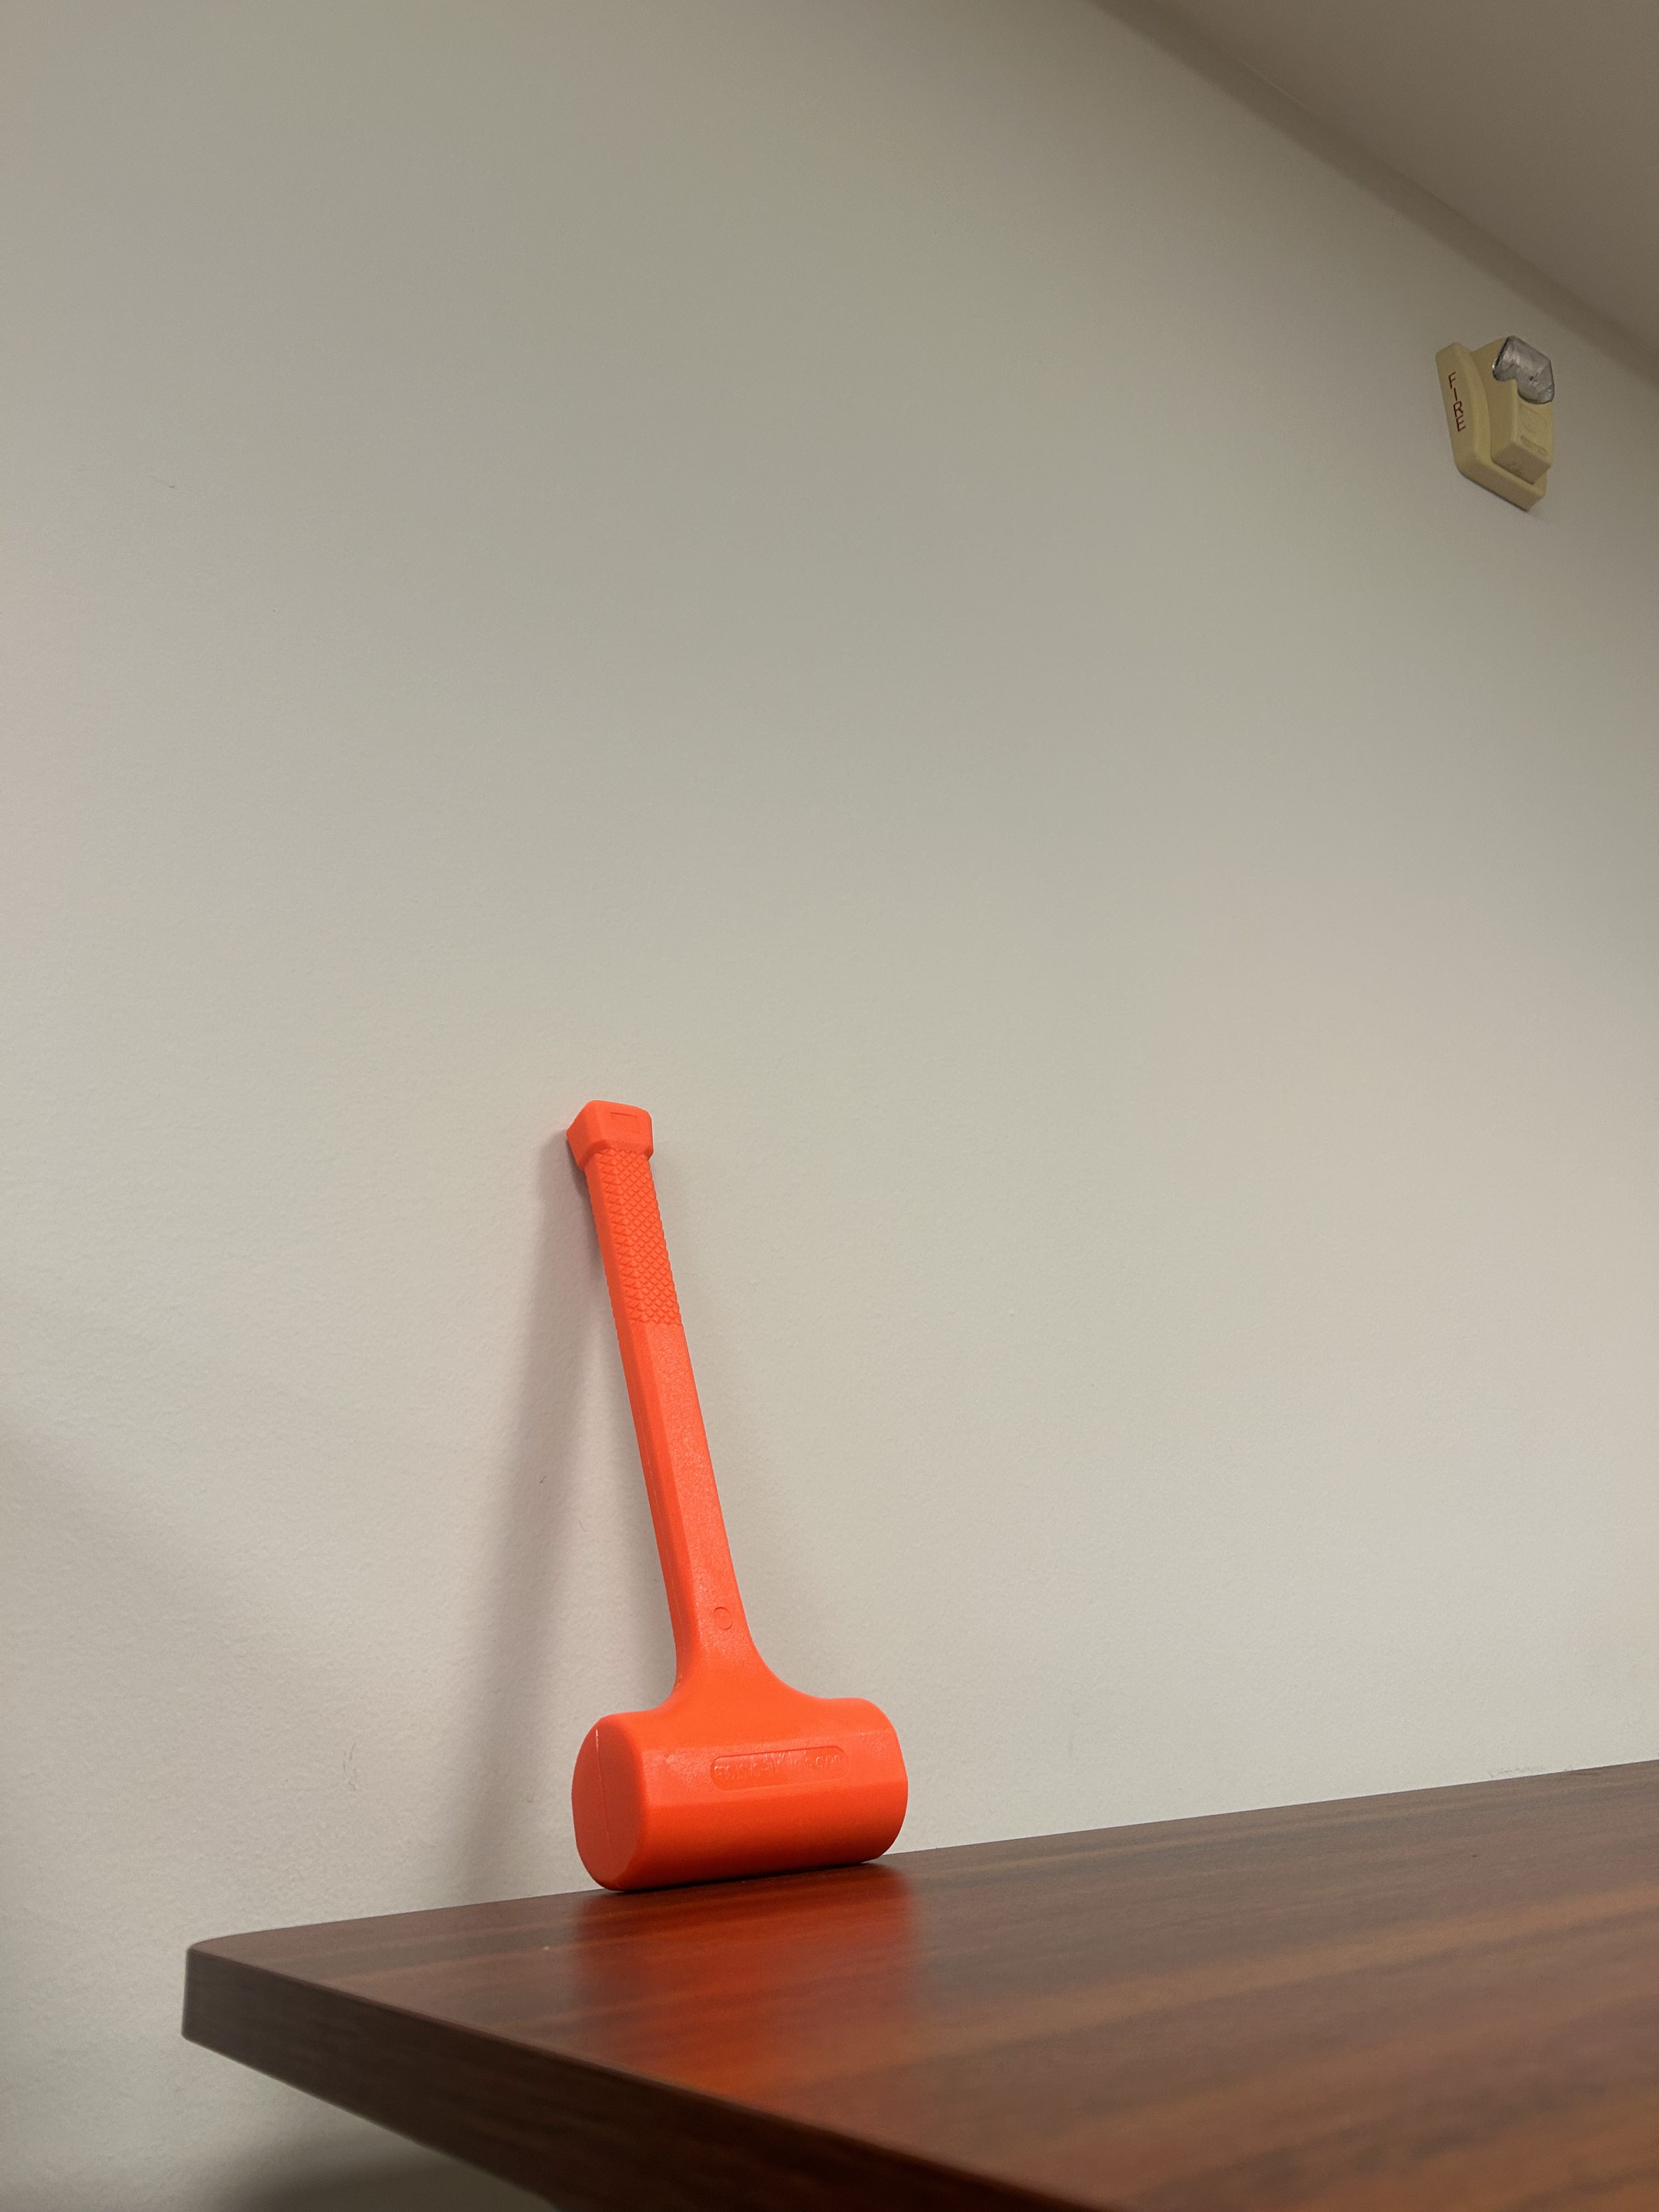Hammer: (371, 1047, 1004, 1916)
